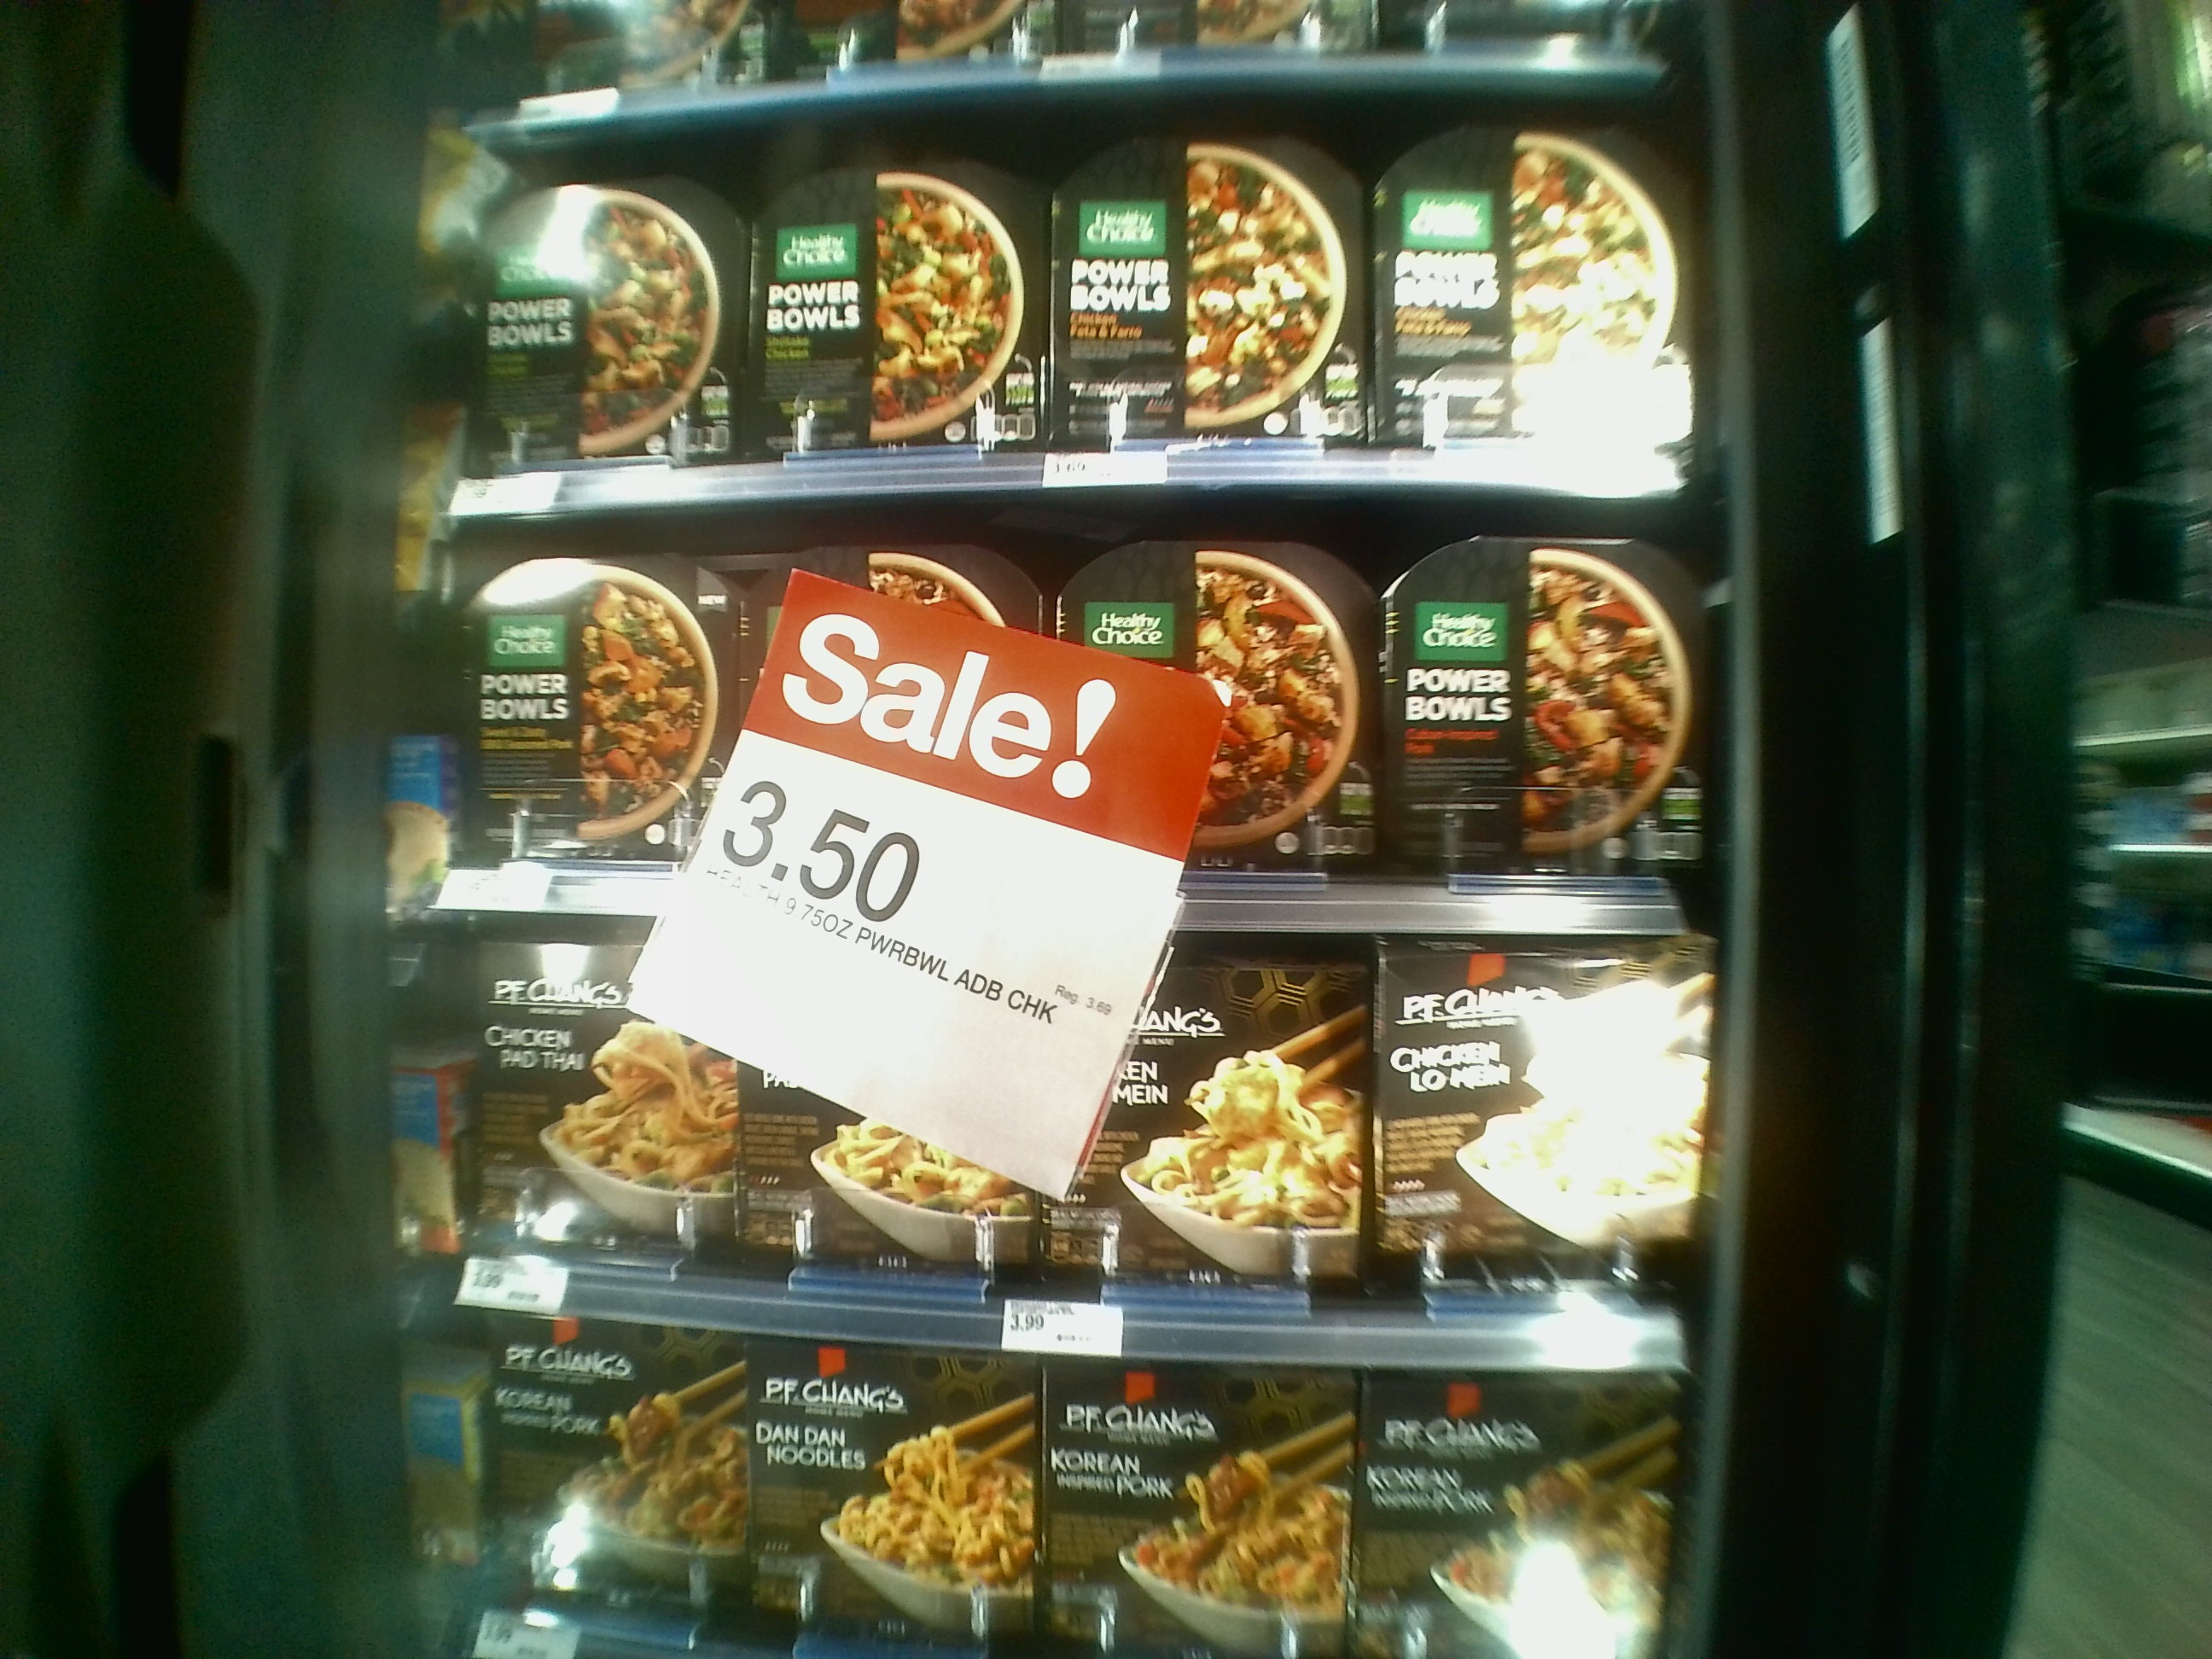shelf: (437, 903, 1693, 1364), (441, 481, 1693, 924)
